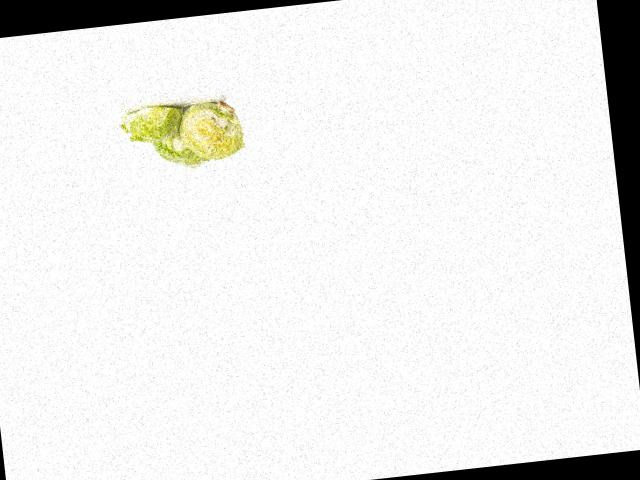lettuce: (146, 124, 216, 174)
